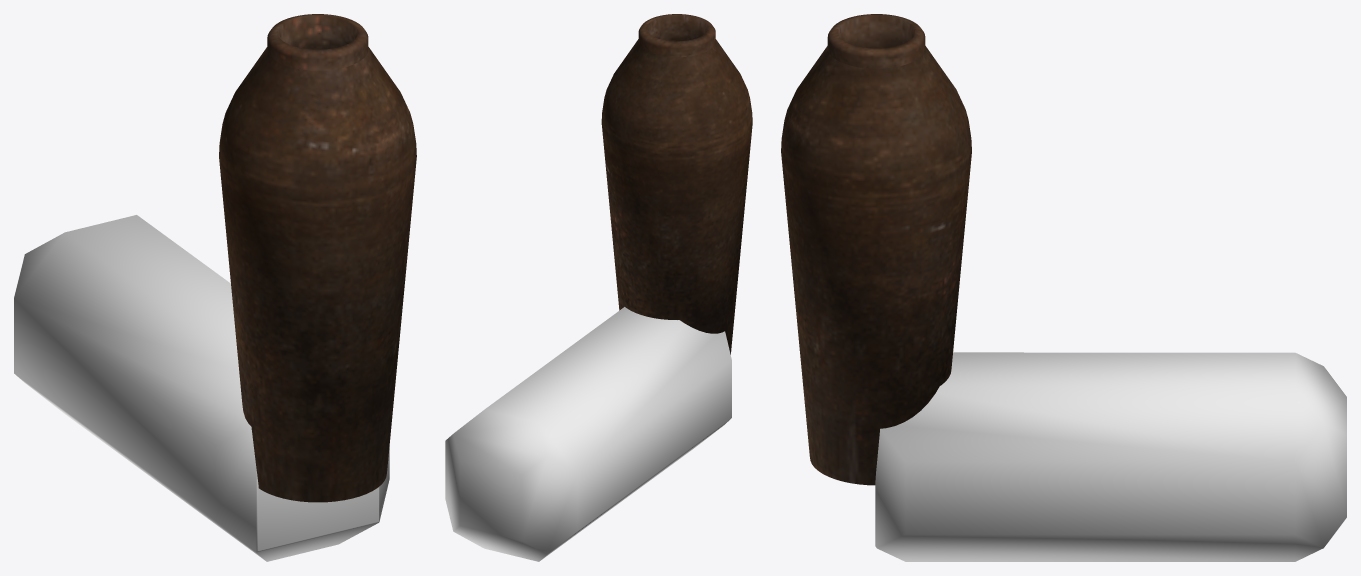
File: SM_Ceramics_B.fbx
The picture shows the model from 3 angles, left to right: view 1: azimuth 30°, elevation 25°; view 2: azimuth 150°, elevation 25°; view 3: azimuth 270°, elevation 25°; orthographic projection. The views are drawn at different scales.
Parts seen in each view (by area): view 1: SM_Ceramics_B, SM_Ceramics_B_ConvexHulls; view 2: SM_Ceramics_B_ConvexHulls, SM_Ceramics_B; view 3: SM_Ceramics_B_ConvexHulls, SM_Ceramics_B.
Boxes of the visible parts, x1,y1,x2,y2 form: SM_Ceramics_B: (219, 14, 416, 502); SM_Ceramics_B_ConvexHulls: (14, 215, 389, 561); SM_Ceramics_B_ConvexHulls: (445, 307, 731, 561); SM_Ceramics_B: (601, 14, 752, 354); SM_Ceramics_B_ConvexHulls: (875, 352, 1346, 561); SM_Ceramics_B: (781, 14, 971, 485).
Size of the model in its own units: 0.1574 by 0.4595 by 0.4594.
